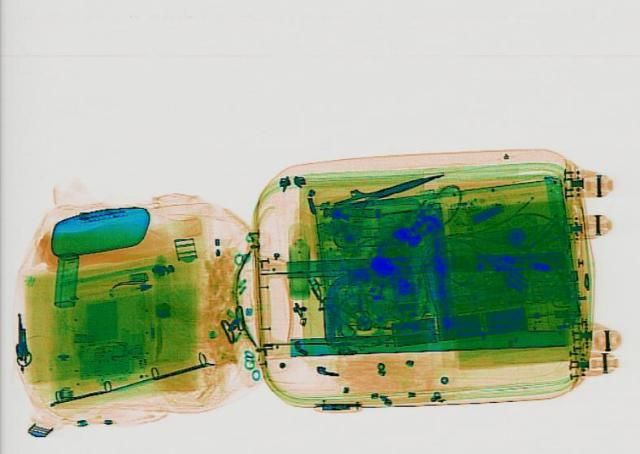Knife: (322, 164, 446, 211)
